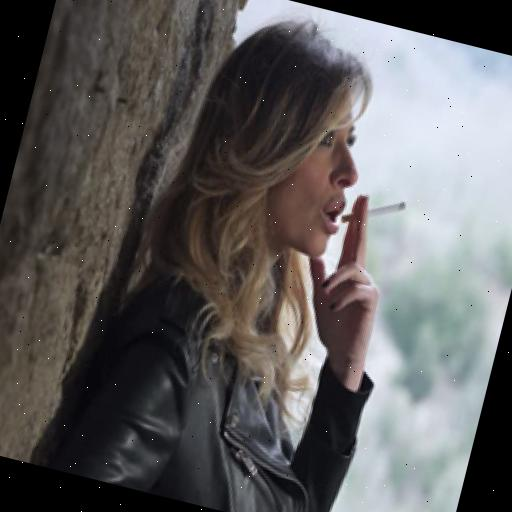terdeteksi merokok: (274, 106, 425, 296)
